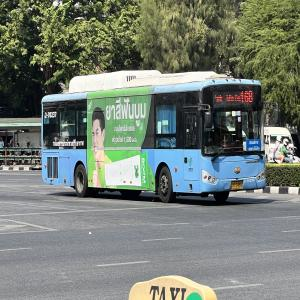BMTA-bus: (40, 70, 267, 205)
Bus Line Number: (239, 87, 253, 105)
Bus Side Number: (44, 110, 60, 120), (244, 177, 255, 184)
Destination Sign: (246, 138, 261, 152)
